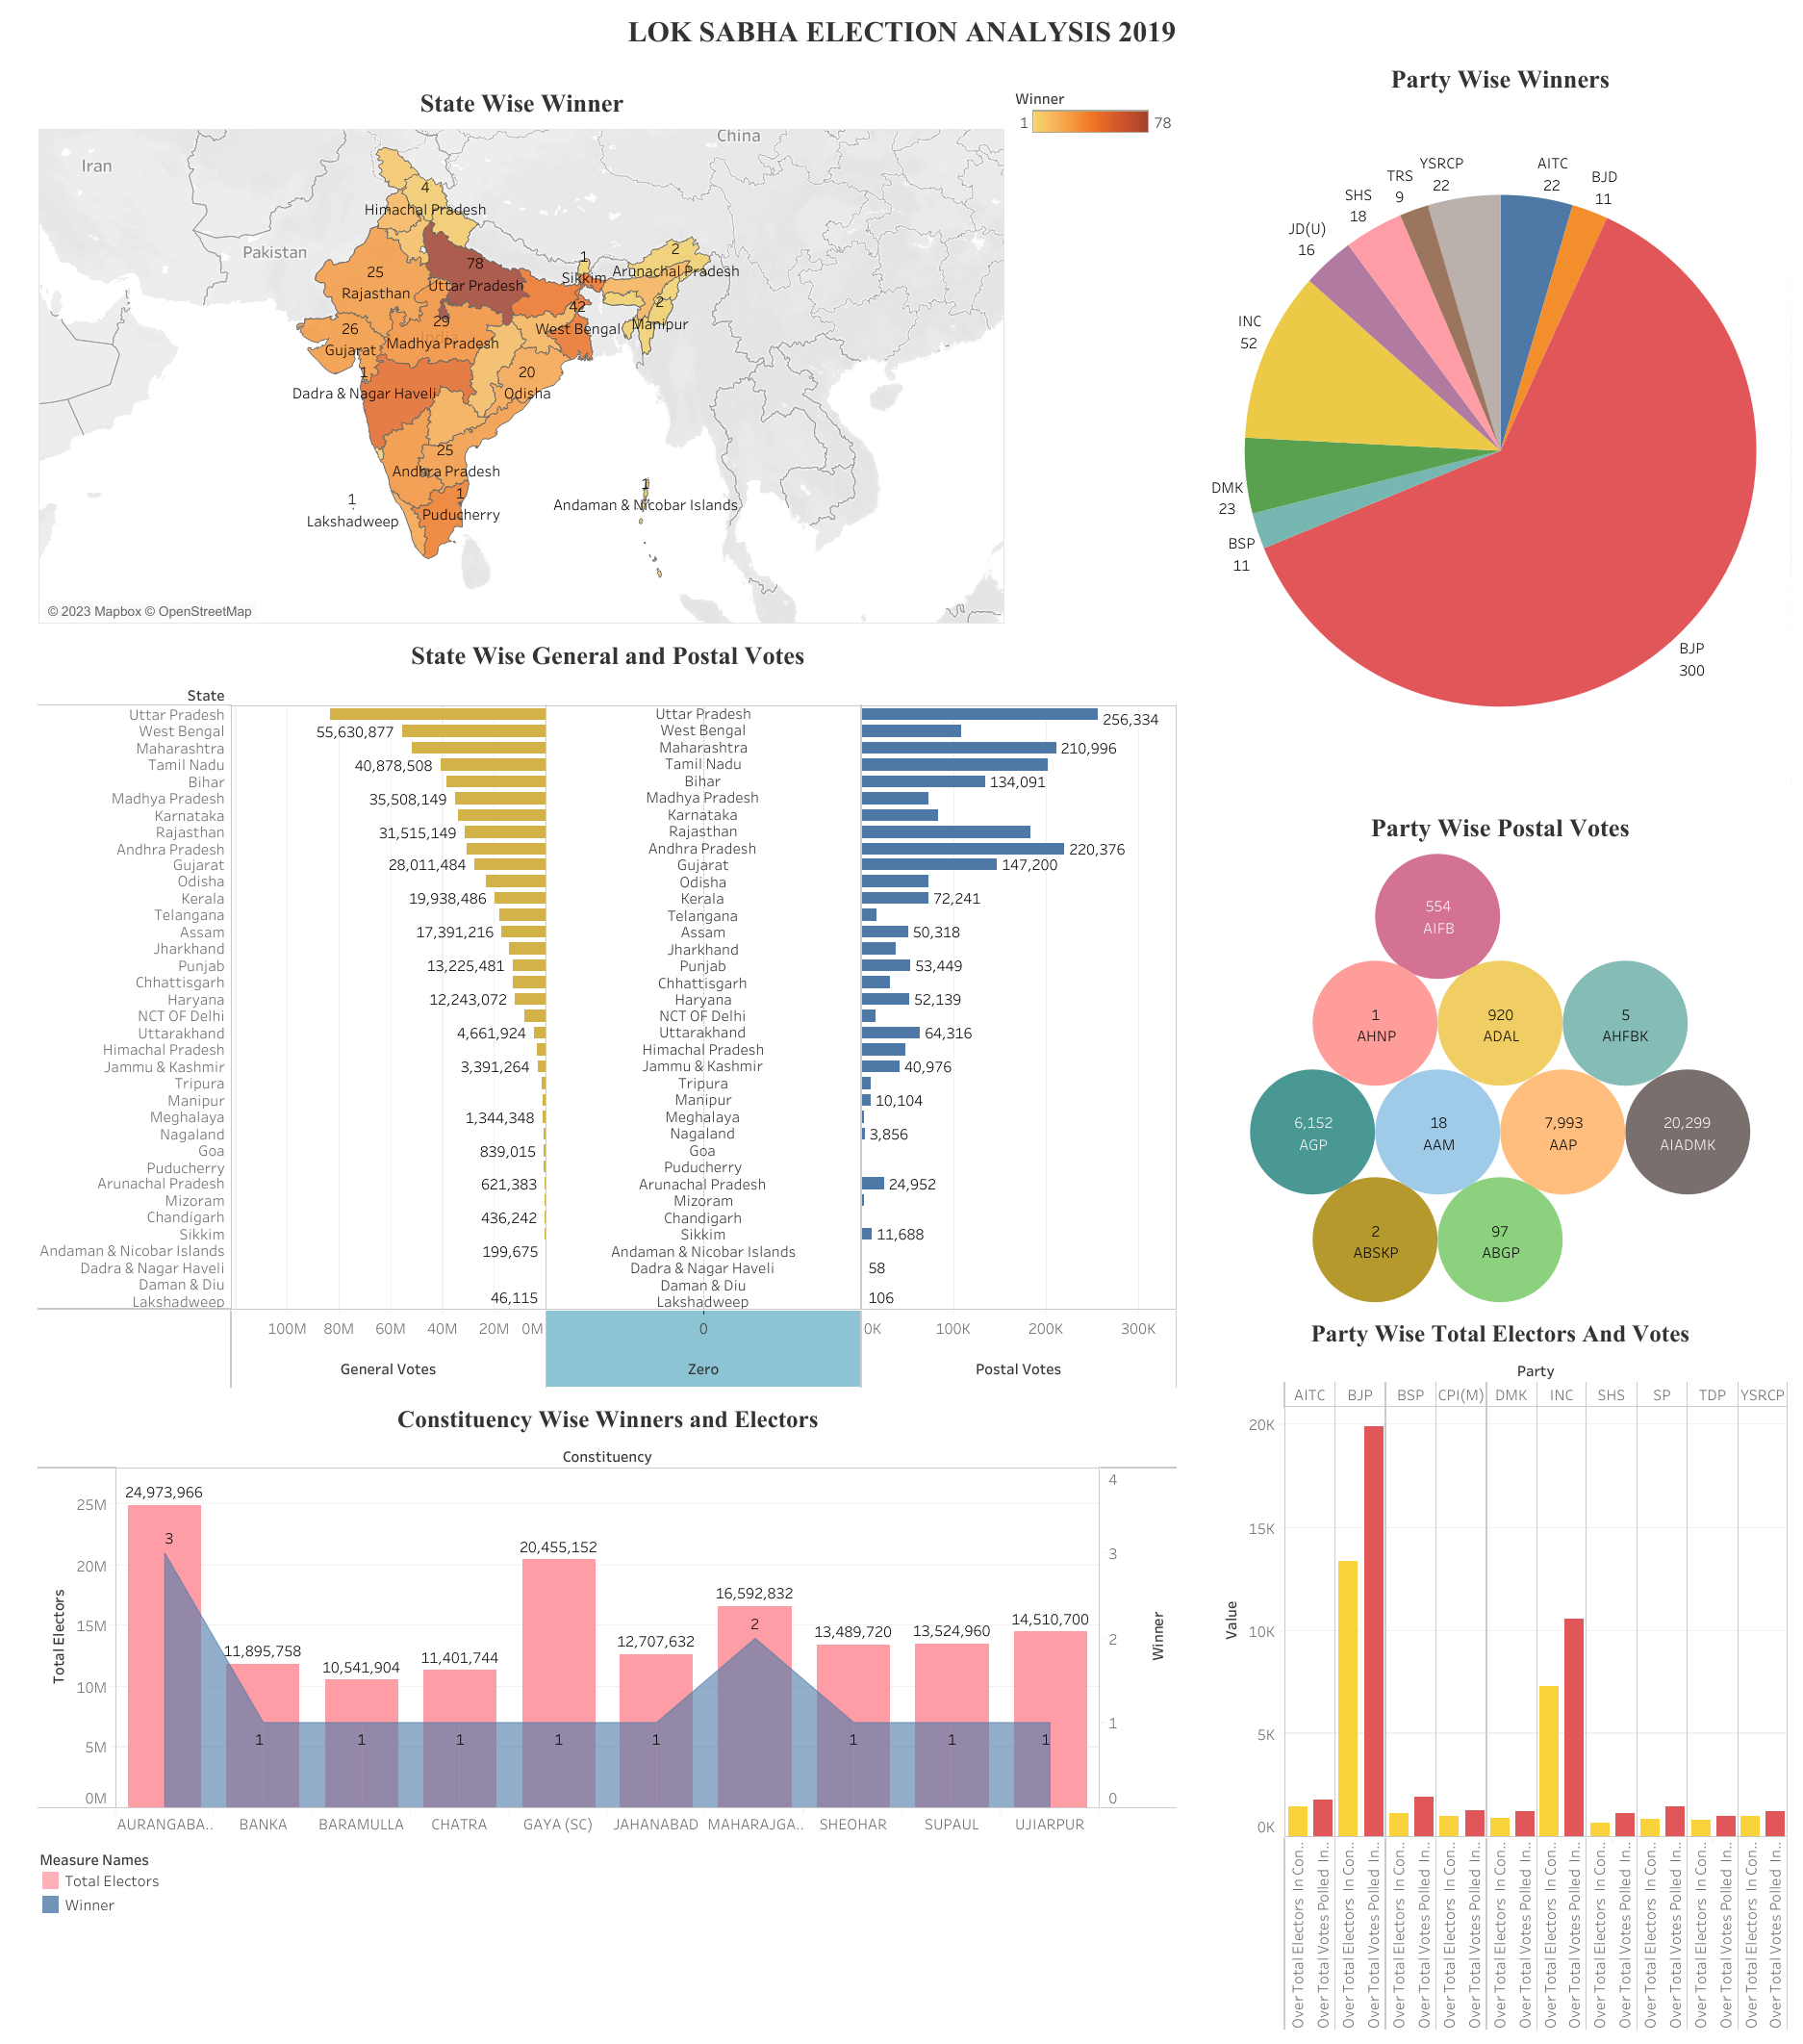

The page's visual inventory and layout, read from the dashboard file:
{"tool":"tableau","page":{"name":"Dashboard 2","canvas":[1000,1000],"units":"permille","ordinal":1},"visuals":[{"type":"title","box":[5.4,4.7,989.3,24.7]},{"type":"worksheet","title":"Sheet 5","mark":"Pie","box":[666.4,29.4,328.2,365.9]},{"type":"worksheet","title":"Sheet 2","mark":"Automatic","box":[18.8,41.2,538.2,270]},{"type":"legend","title":"Sheet 2","param":"[federated.1ygikck17u89oi1fo3zsw14tj304].[sum:WINNER:qk]","box":[557,41.2,96,270]},{"type":"worksheet","title":"Sheet 3","mark":"Automatic","rows":["STATE"],"cols":["GENERAL VOTES","Calculation_292452513361379331","POSTAL VOTES"],"box":[18.8,311.2,634.2,372.3]},{"type":"worksheet","title":"Sheet 7","mark":"Circle","box":[666.4,395.3,328.2,247.7]},{"type":"worksheet","title":"Sheet 12","mark":"Automatic","cols":["PARTY"],"box":[666.4,643,328.2,352.3]},{"type":"worksheet","title":"Sheet 11","mark":"Automatic","rows":["TOTAL ELECTORS","WINNER"],"cols":["CONSTITUENCY"],"box":[18.8,683.5,634.2,218.8]},{"type":"legend","title":"Sheet 11","param":"[federated.1ygikck17u89oi1fo3zsw14tj304].[:Measure Names]","box":[18.8,902.4,634.2,81.2]}]}

Visuals, with their boxes on the dashboard's canvas, which has no fixed pixel size, in thousandths of its width and height (x1, y1, x2, y2). These are canvas units, not pixel positions in the 1803x2044 screenshot, which may show the page scaled, cropped or inside an application window:
title: crop(5, 5, 995, 29)
"Sheet 5" worksheet (Pie marks): crop(666, 29, 995, 395)
"Sheet 2" worksheet: crop(19, 41, 557, 311)
"Sheet 2" legend: crop(557, 41, 653, 311)
"Sheet 3" worksheet: crop(19, 311, 653, 684)
"Sheet 7" worksheet (Circle marks): crop(666, 395, 995, 643)
"Sheet 12" worksheet: crop(666, 643, 995, 995)
"Sheet 11" worksheet: crop(19, 684, 653, 902)
"Sheet 11" legend: crop(19, 902, 653, 984)
